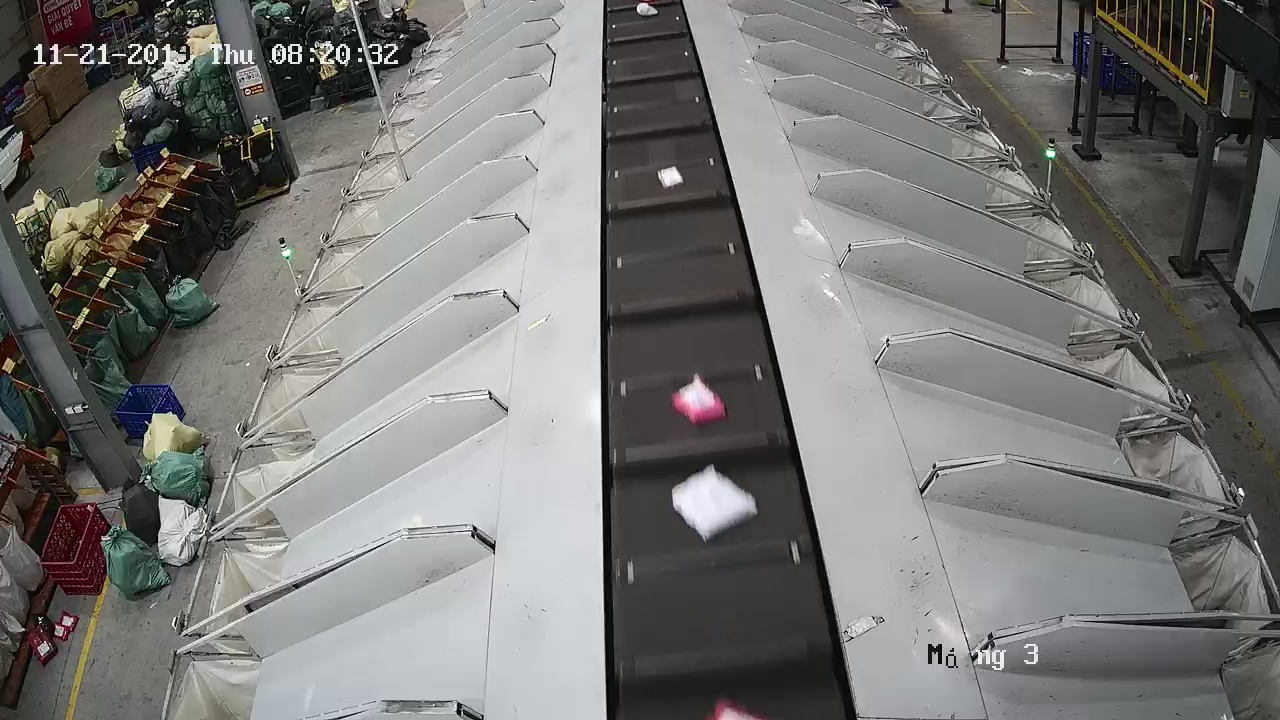parcel: (671, 371, 726, 428)
